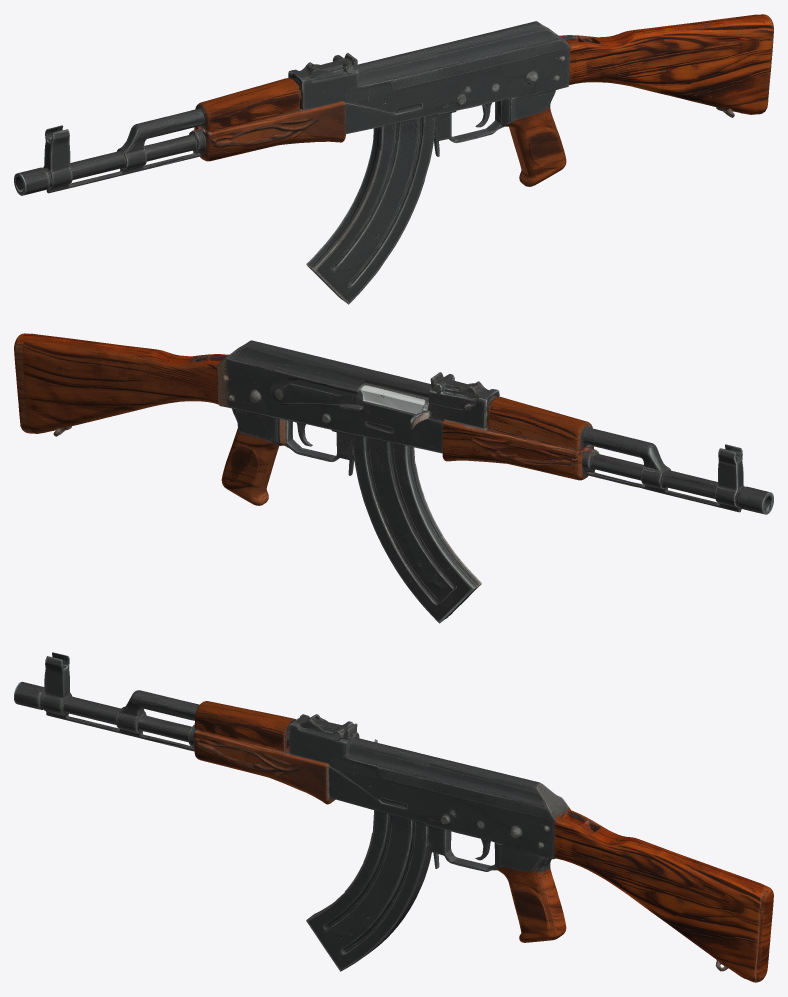
3 views of the same model, one above another, from view 1: azimuth 30°, elevation 25°; view 2: azimuth 150°, elevation 25°; view 3: azimuth 330°, elevation 25° (orthographic).
Bounding box in the file's own units: 1.9 × 0.5905 × 0.1511.
1 material, 1 textured.
